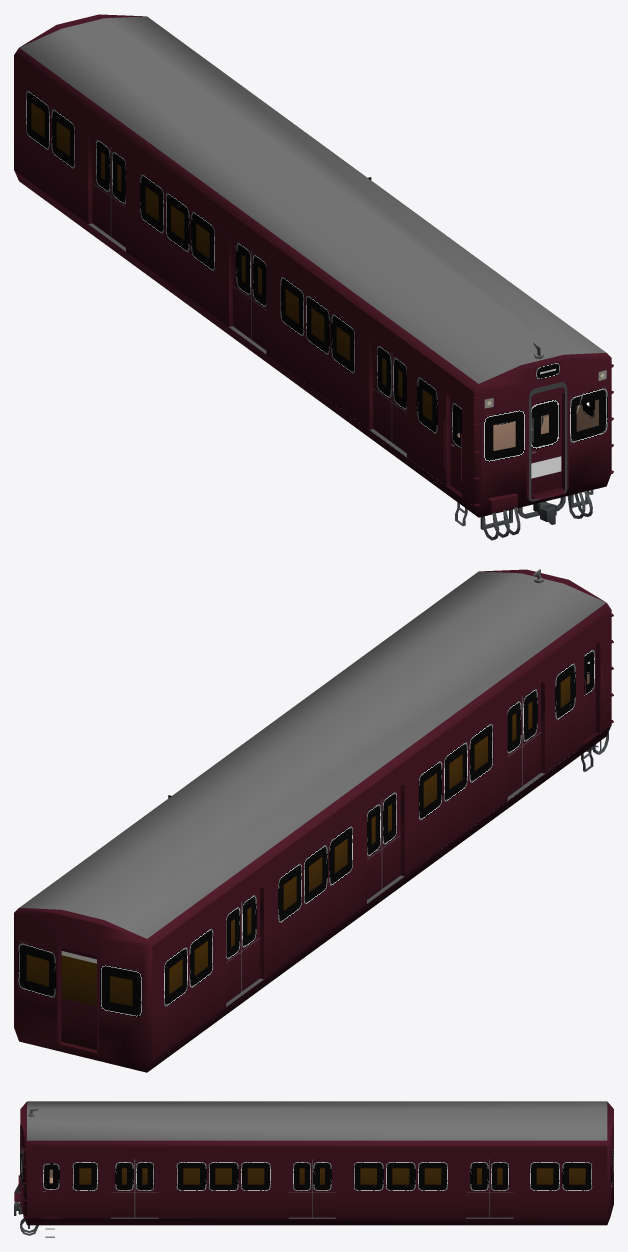
The picture shows the model from 3 angles, top to bottom: view 1: azimuth 30°, elevation 25°; view 2: azimuth 150°, elevation 25°; view 3: azimuth 270°, elevation 25°; orthographic projection. The views are drawn at different scales.
Visible parts, largest first — view 1: obj11; view 2: obj11; view 3: obj11.
Part boxes in pixels (x1,y1,x2,y2): obj11: (14, 14, 613, 540); obj11: (14, 569, 613, 1072); obj11: (14, 1101, 613, 1237).
Size of the model in its own units: 8.14 by 8.08 by 38.87.
59 materials, 58 textured.
